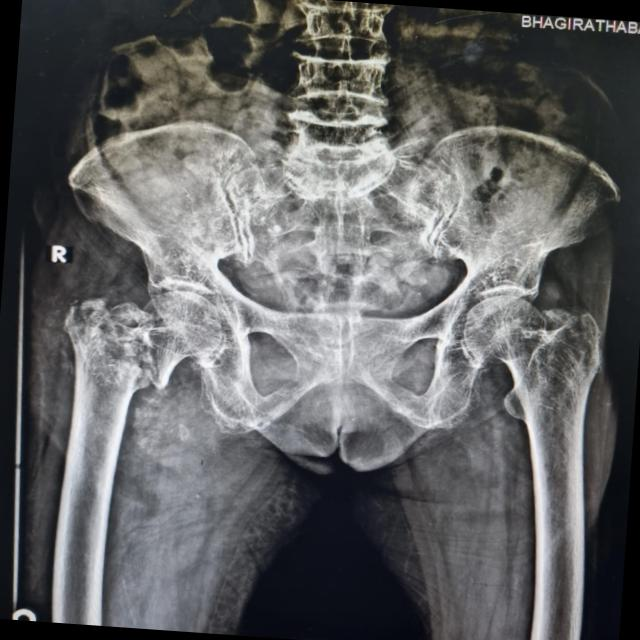normal-left: (463, 295, 602, 469)
right-intertrochanteric: (79, 291, 222, 390), (63, 302, 150, 455)
